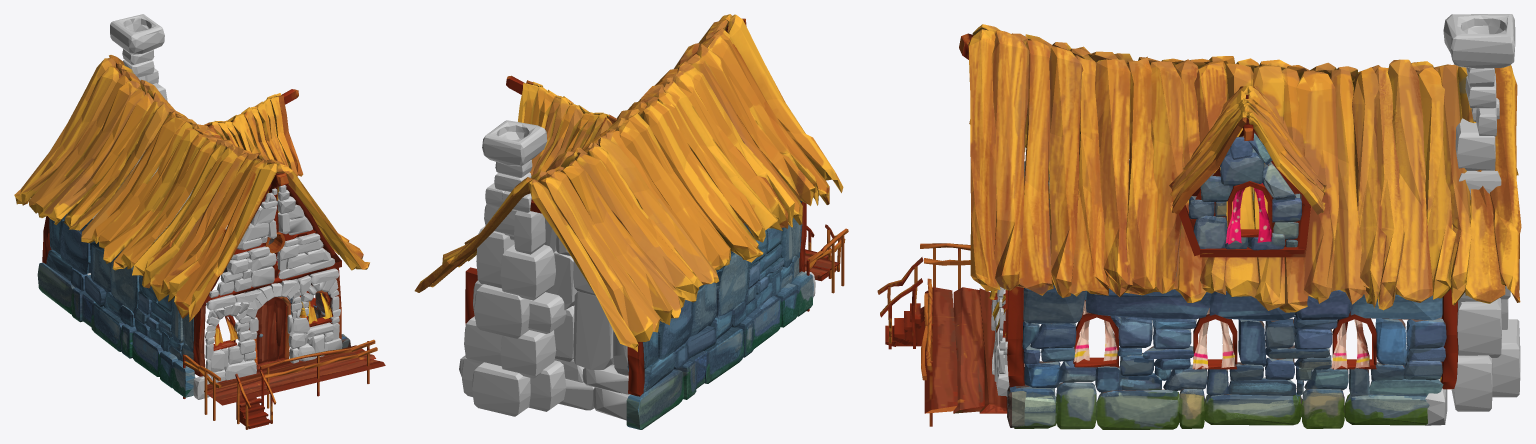
Rendered from CottageExterior.FBX.
3 renders of one model, left to right at view 1: azimuth 30°, elevation 25°; view 2: azimuth 150°, elevation 25°; view 3: azimuth 270°, elevation 25°, orthographic. The views are drawn at different scales.
Visible parts, largest first — view 1: group10_RoofA6, group10_cottage_933, group10_Structure, group10_Object001, LeftWall3_group10; view 2: group10_RoofA6, group10_cottage_933, group10_Object001, group10_Structure; view 3: group10_RoofA6, LeftWall3_group10, group10_Structure, group10_cottage_933.
Part boxes in pixels (x1,y1,x2,y2): group10_RoofA6: [14, 55, 369, 321]; group10_cottage_933: [87, 14, 342, 399]; group10_Structure: [42, 89, 385, 429]; group10_Object001: [37, 209, 195, 397]; LeftWall3_group10: [223, 221, 350, 348]; group10_RoofA6: [414, 14, 843, 351]; group10_cottage_933: [459, 120, 815, 420]; group10_Object001: [626, 200, 813, 429]; group10_Structure: [465, 18, 848, 396]; group10_RoofA6: [968, 24, 1521, 312]; LeftWall3_group10: [1007, 132, 1446, 429]; group10_Structure: [877, 33, 1458, 426]; group10_cottage_933: [991, 14, 1520, 425].
Bounding box in the file's own units: 942 × 1059 × 1675.
